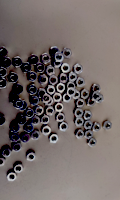nut: (8, 73, 20, 84), (13, 84, 24, 95), (1, 58, 12, 68), (22, 63, 33, 73), (36, 63, 46, 74), (9, 94, 20, 104), (41, 53, 51, 64), (46, 65, 56, 76), (49, 47, 60, 57), (54, 52, 64, 63), (38, 75, 49, 85), (14, 99, 24, 110), (16, 115, 27, 125), (31, 116, 41, 127), (12, 143, 23, 153), (7, 171, 17, 182), (48, 75, 58, 86), (29, 55, 39, 65), (28, 72, 38, 82), (28, 85, 38, 95), (30, 96, 40, 106), (10, 124, 20, 134), (25, 109, 35, 119), (2, 148, 12, 158), (10, 133, 20, 143), (20, 134, 30, 144), (26, 152, 36, 162), (14, 164, 24, 174), (49, 134, 59, 144), (59, 122, 69, 132), (88, 138, 98, 148), (53, 93, 63, 103), (37, 89, 47, 99), (103, 121, 113, 131), (56, 113, 66, 123), (73, 64, 83, 74), (61, 63, 71, 73), (59, 74, 69, 84), (76, 78, 86, 88), (76, 99, 86, 109), (0, 47, 9, 58), (13, 57, 22, 68), (63, 92, 72, 103), (81, 89, 90, 100), (63, 49, 72, 59), (19, 101, 28, 111), (55, 103, 64, 113), (31, 131, 40, 141), (42, 126, 51, 136), (41, 115, 50, 125), (35, 106, 44, 116), (46, 106, 55, 116), (42, 94, 51, 104), (74, 109, 84, 118), (57, 83, 66, 93), (47, 85, 56, 95), (67, 87, 76, 97), (69, 72, 78, 82), (92, 84, 101, 94), (76, 130, 85, 139), (75, 118, 84, 127), (84, 121, 93, 130), (85, 131, 94, 140), (93, 123, 102, 132), (84, 111, 93, 120), (92, 92, 101, 101), (95, 95, 104, 104), (0, 79, 8, 89), (73, 90, 81, 100), (88, 97, 96, 107), (0, 67, 7, 78), (45, 98, 54, 106), (53, 61, 63, 68), (67, 83, 76, 90), (0, 116, 6, 126), (0, 157, 5, 167)
